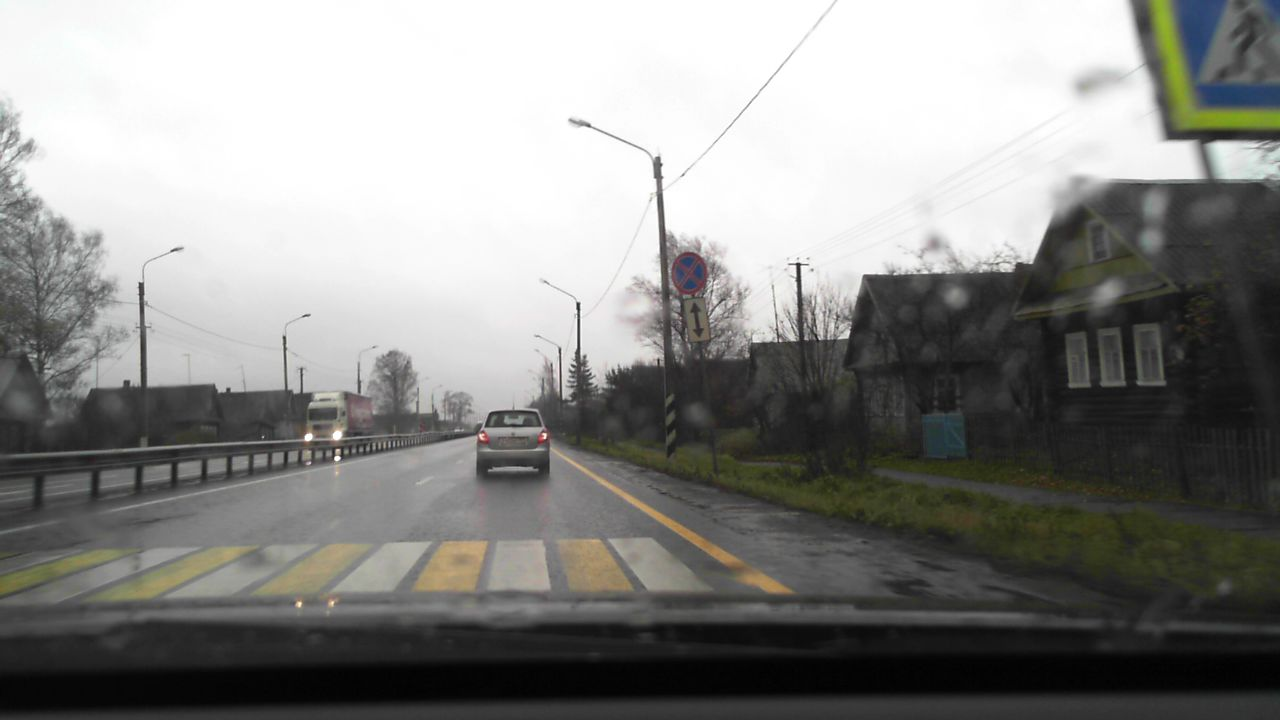No Parking: (671, 252, 707, 295)
